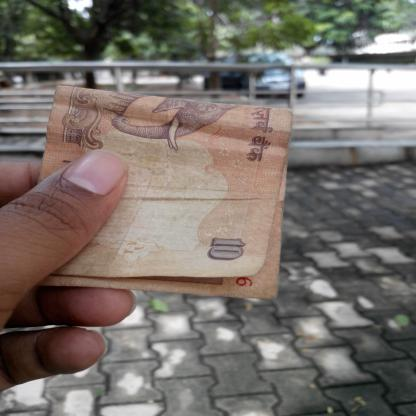Old10Back: (38, 83, 294, 300)
